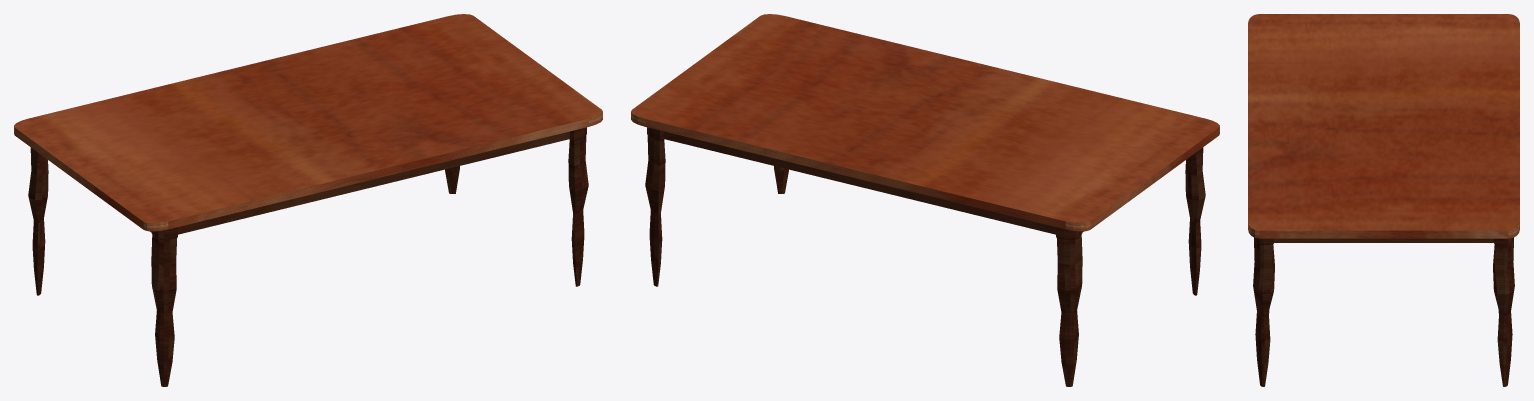
File: stol.fbx
The picture shows the model from 3 angles, left to right: view 1: azimuth 30°, elevation 25°; view 2: azimuth 150°, elevation 25°; view 3: azimuth 270°, elevation 25°; orthographic projection. The views are drawn at different scales.
Visible parts, largest first — view 1: Cube, Cube.001; view 2: Cube, Cube.001; view 3: Cube, Cube.001.
Boxes of the visible parts, x1,y1,x2,y2 form: Cube: (14, 14, 602, 231); Cube.001: (28, 127, 588, 386); Cube: (631, 14, 1219, 231); Cube.001: (645, 127, 1205, 386); Cube: (1248, 14, 1519, 238); Cube.001: (1253, 237, 1514, 386).
Bounding box in the file's own units: 2496 × 890 × 1323.
